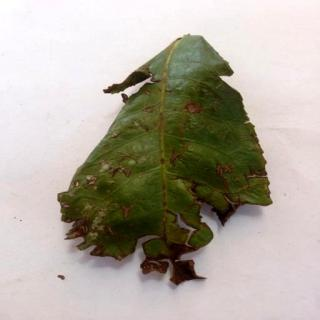Algal Leaf: (58, 36, 273, 287)
